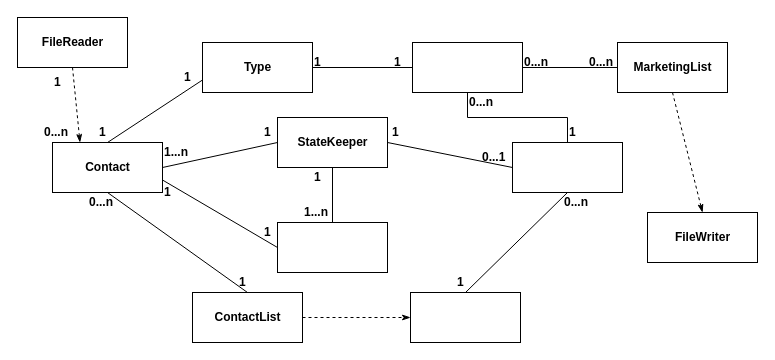
Image size: 775x360. Some labels were removed from this diagram. The box of each missing label's shape, as (x1, y1, x2, y2) in pixels:
Consent: (412, 42, 522, 92)
Customer: (512, 142, 622, 192)
CustomerList: (410, 292, 520, 342)
State: (276, 222, 388, 272)
